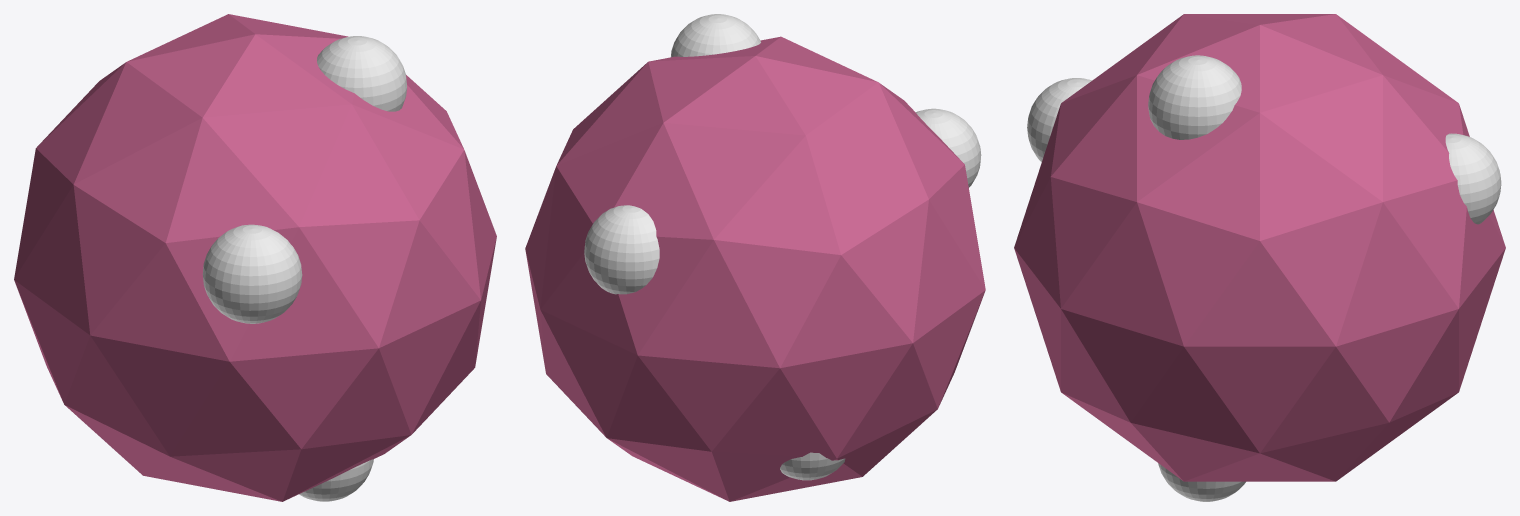
Rendered from eat.gltf.
3 views of the same model, side by side, from view 1: azimuth 30°, elevation 25°; view 2: azimuth 150°, elevation 25°; view 3: azimuth 270°, elevation 25° (orthographic). The views are drawn at different scales.
Parts seen in each view (by area): view 1: Icosphere, Sphere, Sphere.002, Sphere.001; view 2: Icosphere, Sphere.004, Sphere.002, Sphere, Sphere.003; view 3: Icosphere, Sphere.002, Sphere.004, Sphere, Sphere.001.
Part boxes in pixels (left/top/right/bottom): Icosphere: left=14, top=14, right=496, bottom=501; Sphere: left=202, top=224, right=302, bottom=323; Sphere.002: left=317, top=36, right=407, bottom=111; Sphere.001: left=299, top=459, right=373, bottom=501; Icosphere: left=525, top=36, right=985, bottom=501; Sphere.004: left=584, top=205, right=659, bottom=294; Sphere.002: left=671, top=14, right=760, bottom=57; Sphere: left=916, top=108, right=981, bottom=187; Sphere.003: left=780, top=452, right=845, bottom=480; Icosphere: left=1014, top=14, right=1505, bottom=481; Sphere.002: left=1148, top=55, right=1241, bottom=139; Sphere.004: left=1445, top=133, right=1501, bottom=224; Sphere: left=1027, top=78, right=1091, bottom=162; Sphere.001: left=1158, top=463, right=1245, bottom=501.
Bounding box in the file's own units: 0.5554 × 0.5919 × 0.584.
